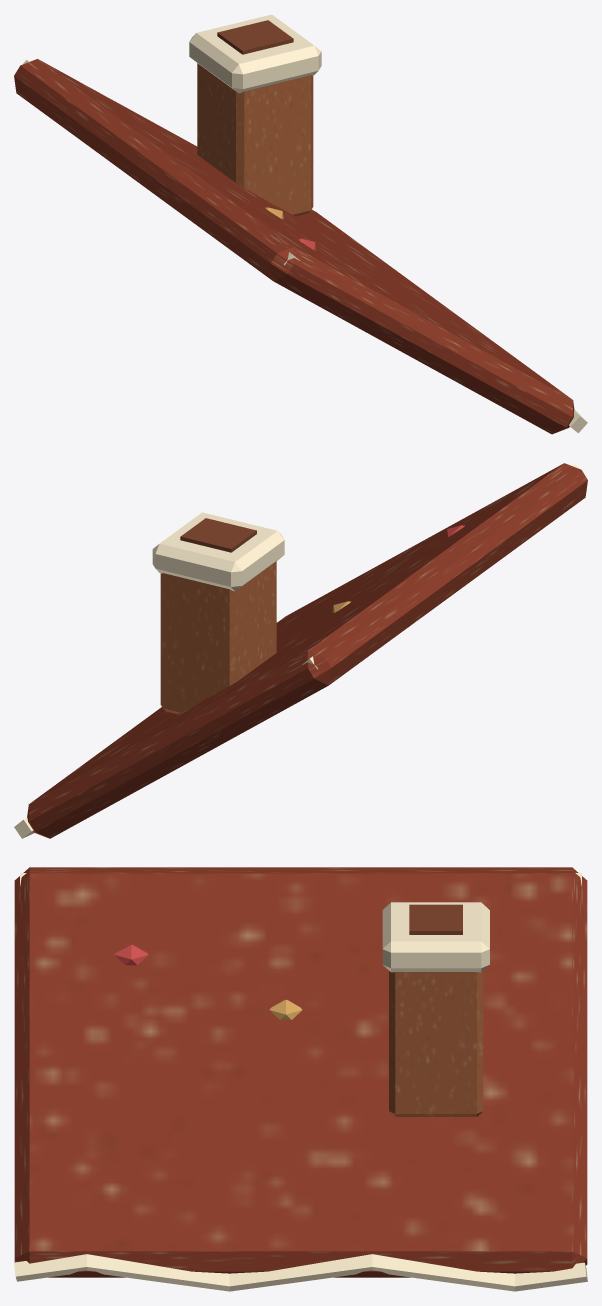
File: gingerbread_house_piece_roof_right.glb
3 views of the same model, one above another, from view 1: azimuth 30°, elevation 25°; view 2: azimuth 150°, elevation 25°; view 3: azimuth 270°, elevation 25° (orthographic). The views are drawn at different scales.
Visible parts, largest first — view 1: roof_right; view 2: roof_right; view 3: roof_right.
Boxes of the visible parts, x1,y1,x2,y2 form: roof_right: [14, 14, 587, 434]; roof_right: [14, 463, 587, 838]; roof_right: [14, 867, 587, 1291].
Size of the model in its own units: 0.1767 by 0.159 by 0.2675.
8 materials, 2 textured.
